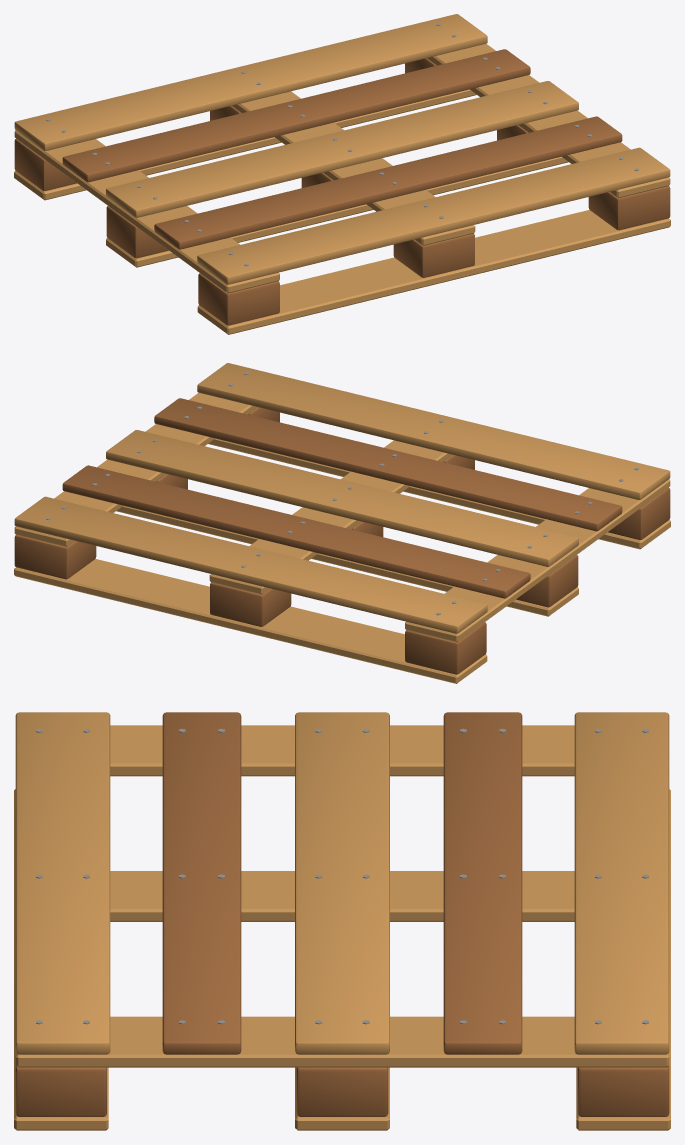
The model's file is Pallet.fbx.
The picture shows the model from 3 angles, top to bottom: view 1: azimuth 30°, elevation 25°; view 2: azimuth 150°, elevation 25°; view 3: azimuth 270°, elevation 25°; orthographic projection. The views are drawn at different scales.
Visible parts, largest first — view 1: Pallet_Mesh; view 2: Pallet_Mesh; view 3: Pallet_Mesh.
Boxes of the visible parts, x1=… form: Pallet_Mesh: x1=14, y1=14, x2=670, y2=334; Pallet_Mesh: x1=14, y1=363, x2=670, y2=683; Pallet_Mesh: x1=14, y1=712, x2=670, y2=1130.
Size of the model in its own units: 1.2 by 0.1515 by 1.
